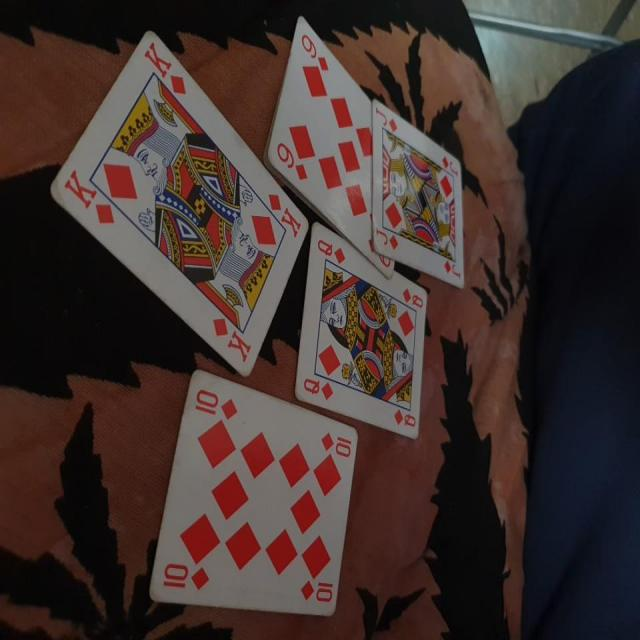10 Diamonds: (146, 369, 359, 617)
9 Diamonds: (265, 12, 397, 276)
J Diamonds: (370, 97, 468, 291)
K Diamonds: (46, 28, 311, 380)
Q Diamonds: (292, 220, 428, 442)
